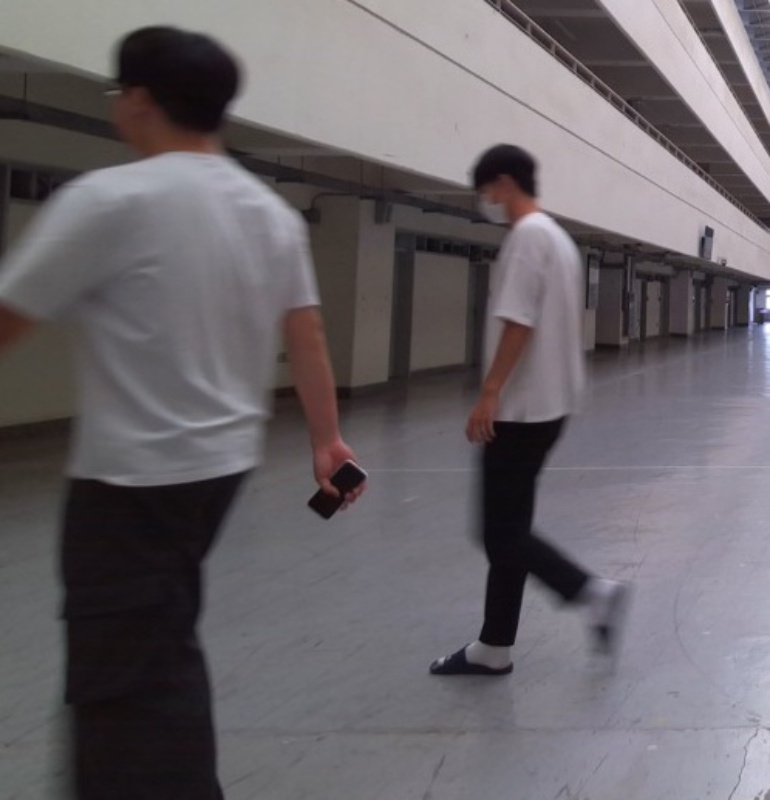person: (425, 141, 642, 685)
